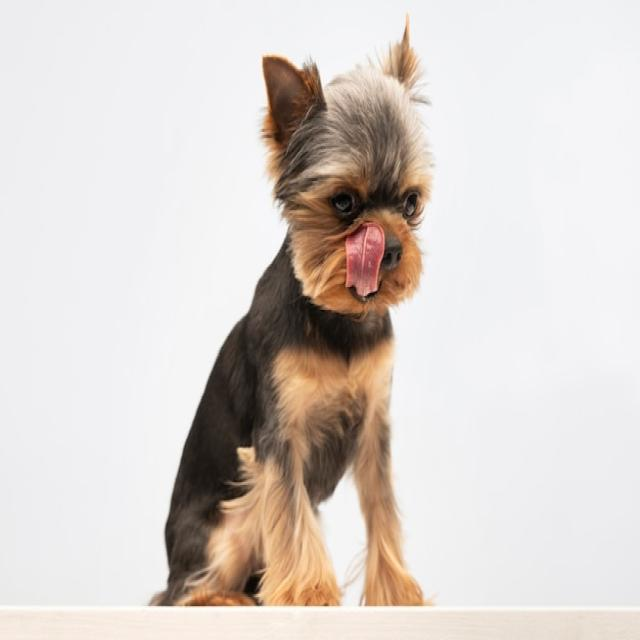Dog: (148, 10, 433, 606)
